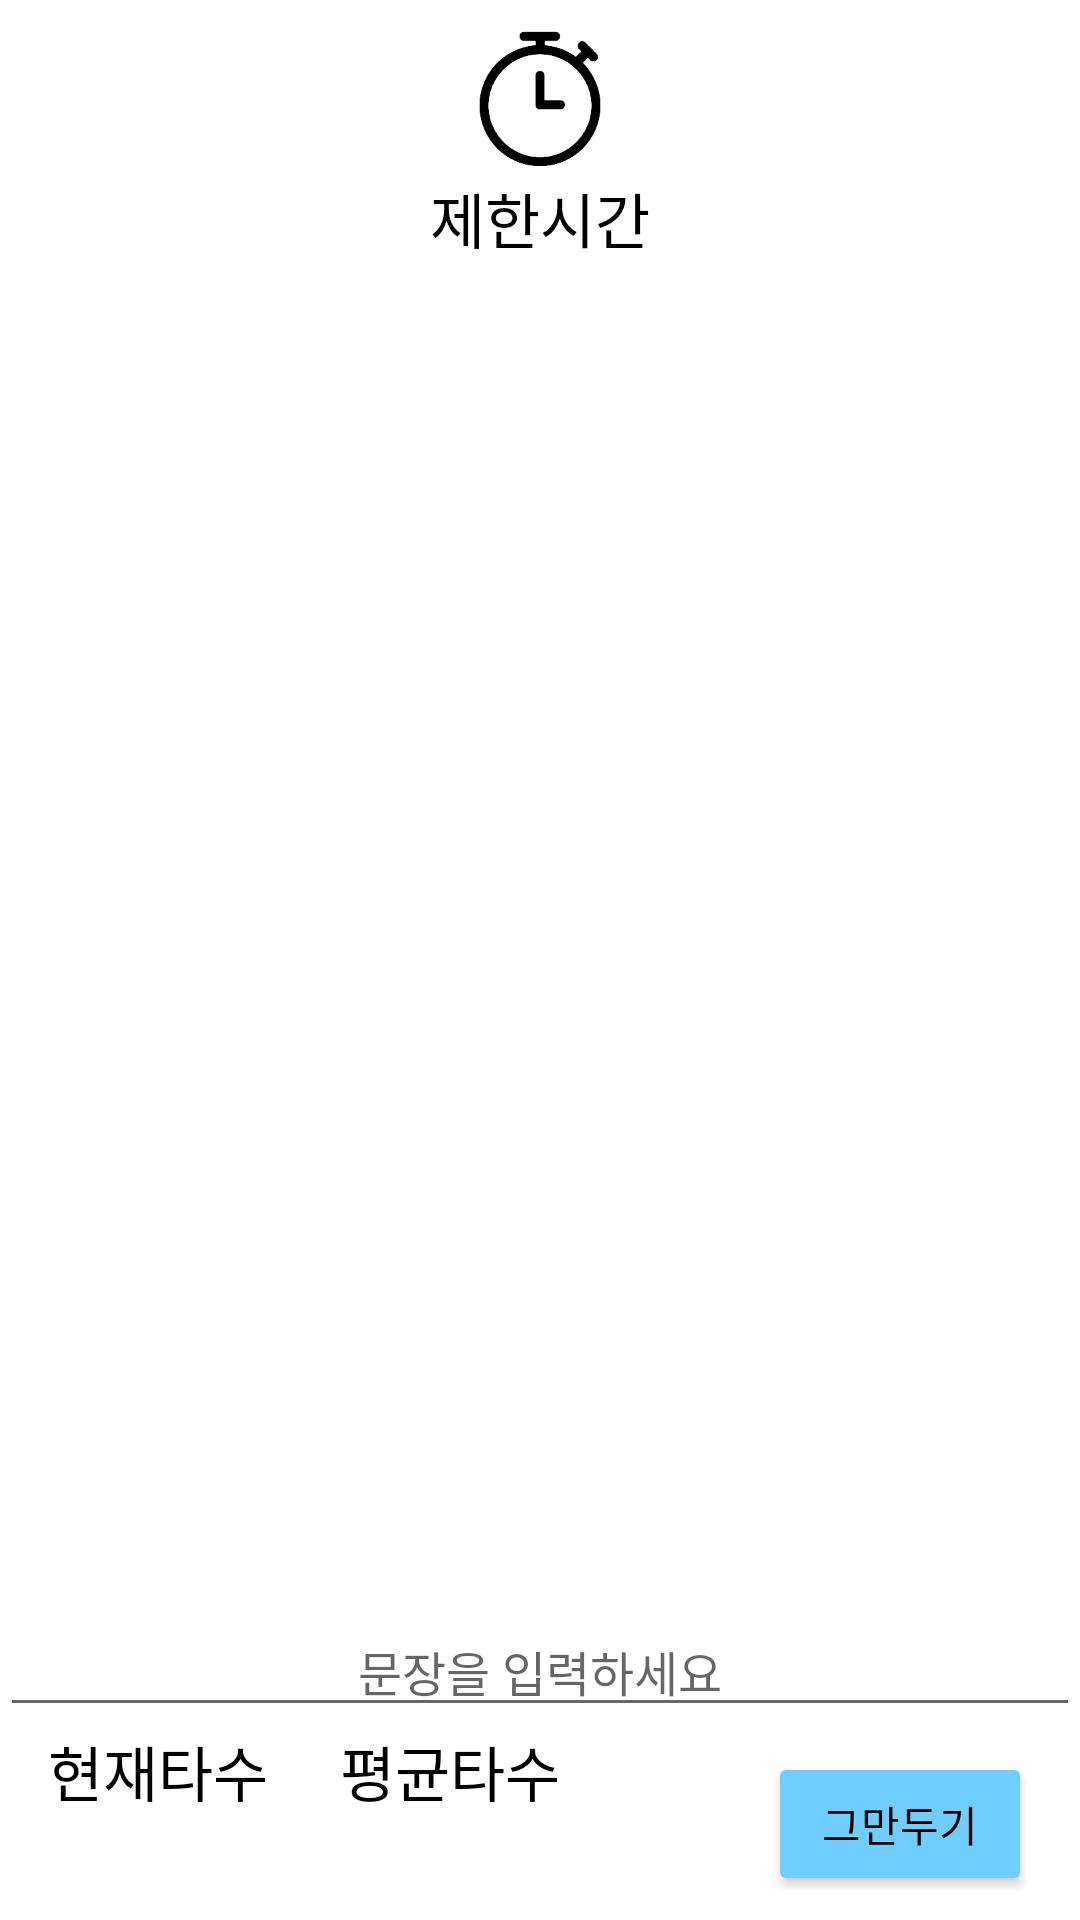

Where to tap for icons on this 1080px×1920px app screen, as point (x, y):
this is timer icon: point (540, 98)
